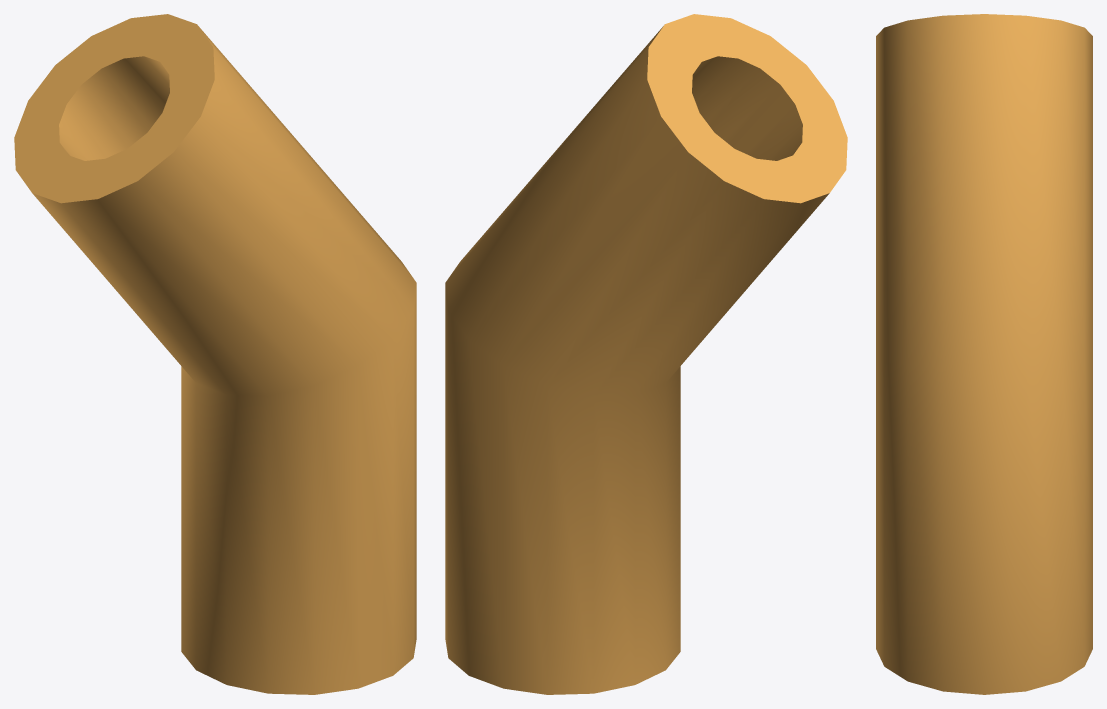
The model's file is Joint_Elbow.fbx.
3 views of the same model, side by side, from view 1: azimuth 30°, elevation 25°; view 2: azimuth 150°, elevation 25°; view 3: azimuth 270°, elevation 25° (orthographic). The views are drawn at different scales.
Visible parts, largest first — view 1: Joint_Elbow; view 2: Joint_Elbow; view 3: Joint_Elbow.
Part boxes in pixels (x1,y1,x2,y2): Joint_Elbow: [14, 14, 416, 694]; Joint_Elbow: [445, 14, 847, 694]; Joint_Elbow: [876, 14, 1092, 694].
Size of the model in its own units: 201 by 336 by 112.
